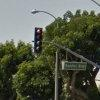Traffic light: (30, 15, 50, 63)
